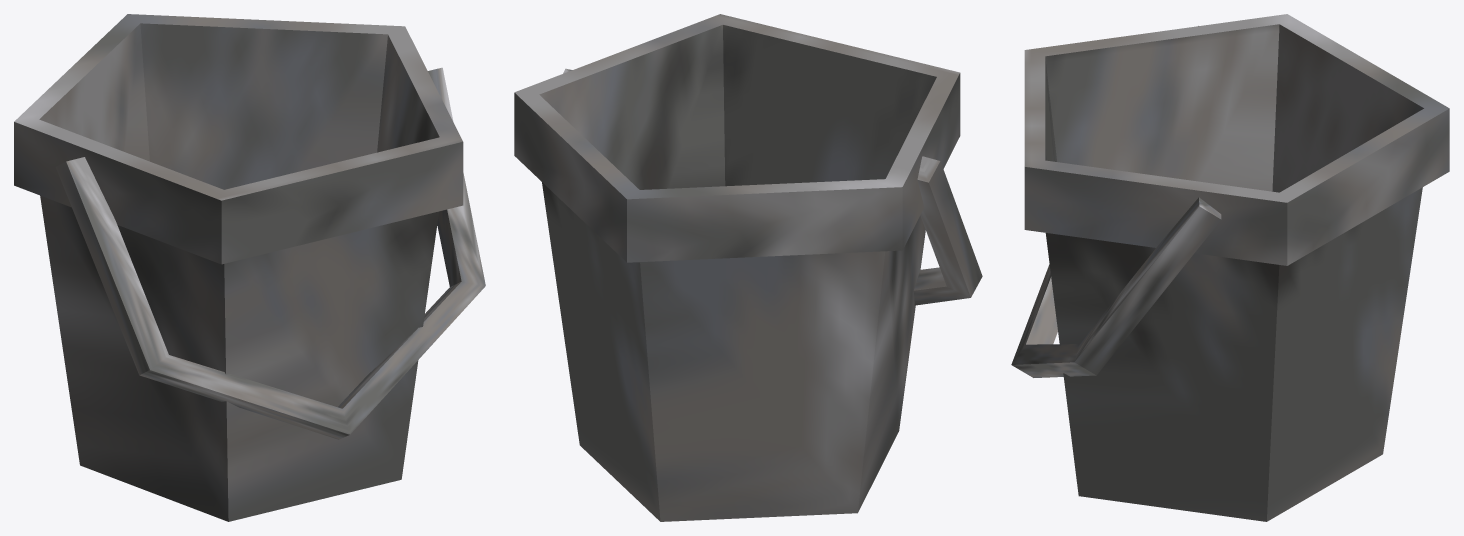
The model's file is bucket.fbx.
3 views of the same model, side by side, from view 1: azimuth 30°, elevation 25°; view 2: azimuth 150°, elevation 25°; view 3: azimuth 270°, elevation 25° (orthographic).
Visible parts, largest first — view 1: Cylinder, Cube; view 2: Cylinder, Cube; view 3: Cylinder, Cube.
Part boxes in pixels (x1,y1,x2,y2): Cylinder: [14, 14, 463, 521]; Cube: [55, 67, 485, 439]; Cylinder: [514, 14, 960, 521]; Cube: [563, 68, 982, 305]; Cylinder: [1024, 14, 1449, 521]; Cube: [1011, 26, 1221, 377].
Size of the model in its own units: 28.97 by 24.74 by 28.42.
